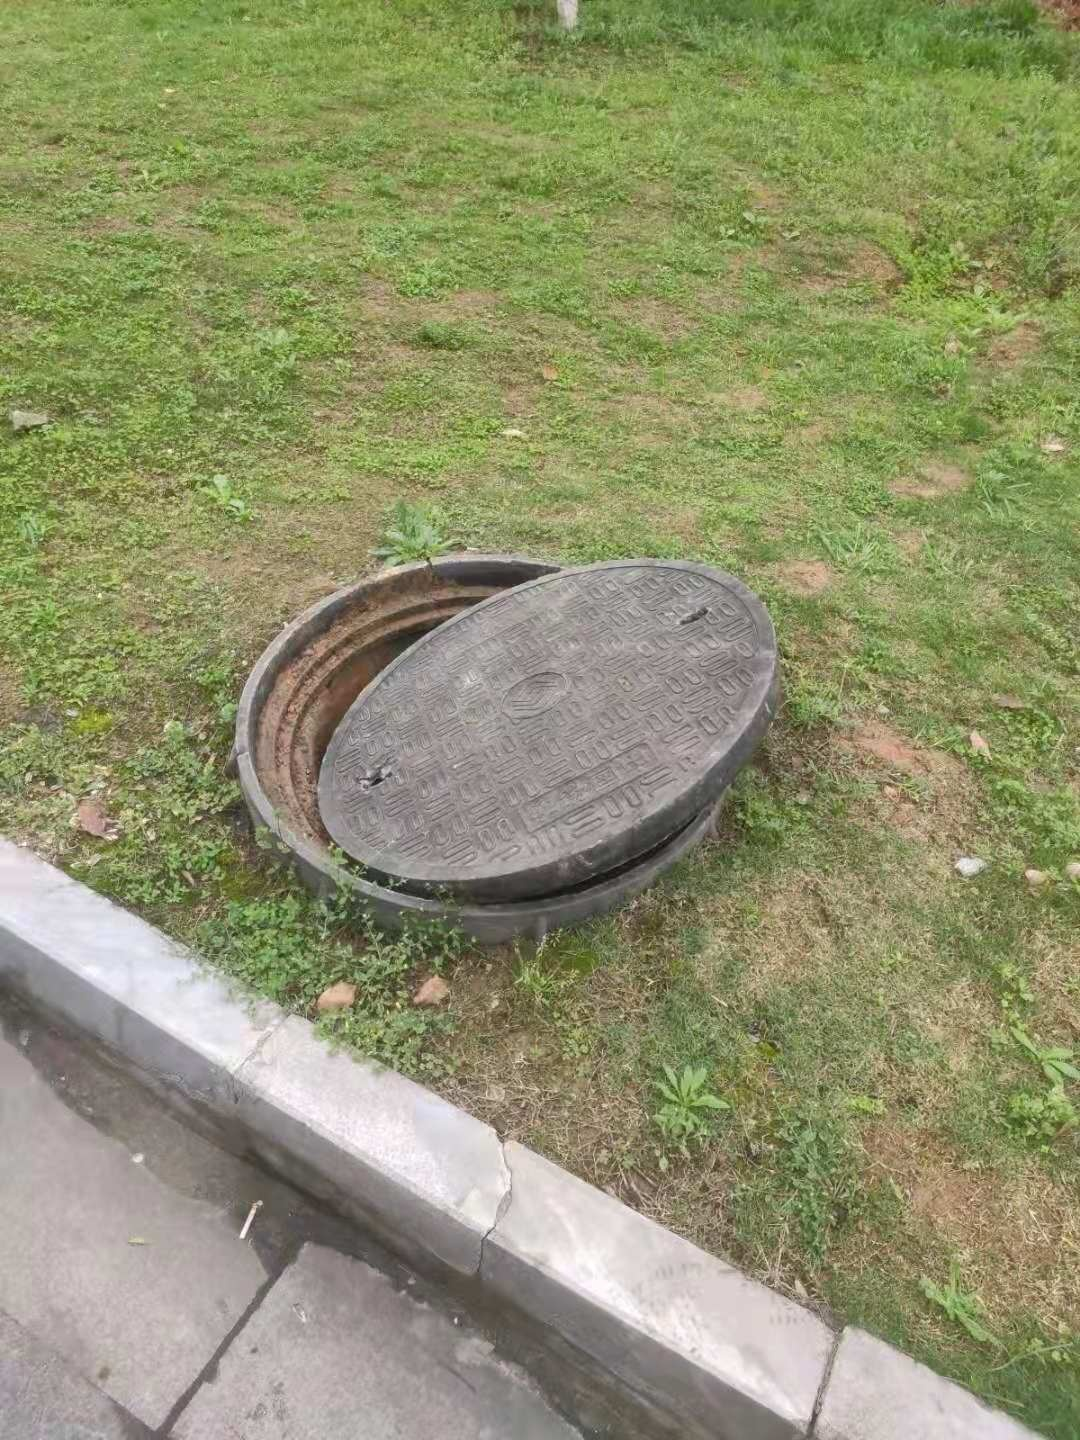uncovered: (228, 550, 781, 938)
